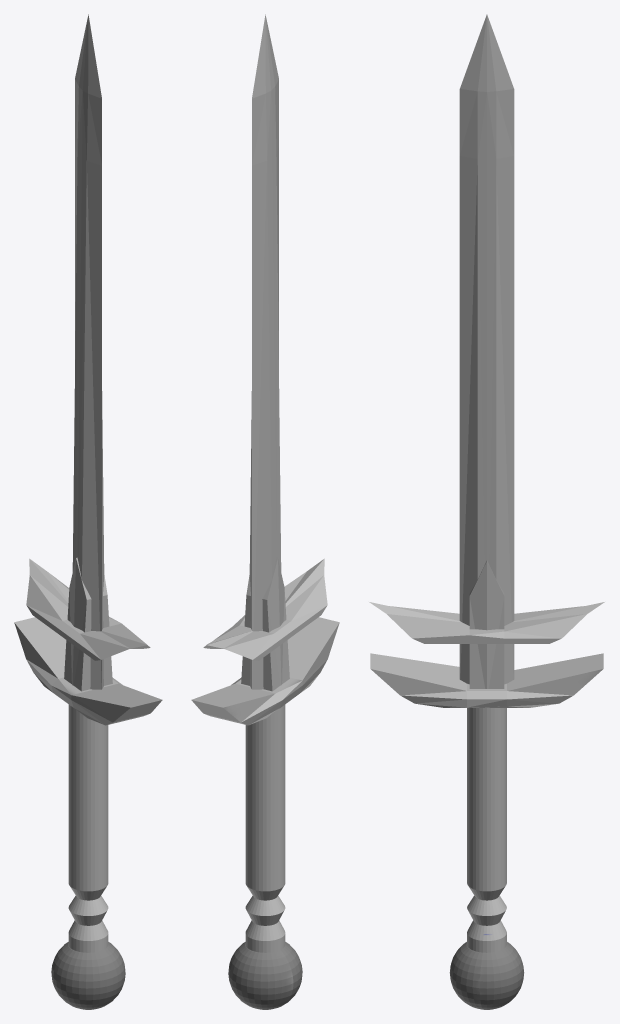
The model's file is weapon.obj.
3 renders of one model, left to right at view 1: azimuth 30°, elevation 25°; view 2: azimuth 150°, elevation 25°; view 3: azimuth 270°, elevation 25°, orthographic.
Visible parts, largest first — view 1: 立方体; view 2: 立方体; view 3: 立方体.
Part boxes in pixels (x1,y1,x2,y2): 立方体: (14, 14, 162, 1009); 立方体: (191, 14, 339, 1009); 立方体: (369, 14, 604, 1009).
Bounding box in the file's own units: 0.4308 × 6.34 × 1.37.
Materials: 1 (1 with a texture image).
